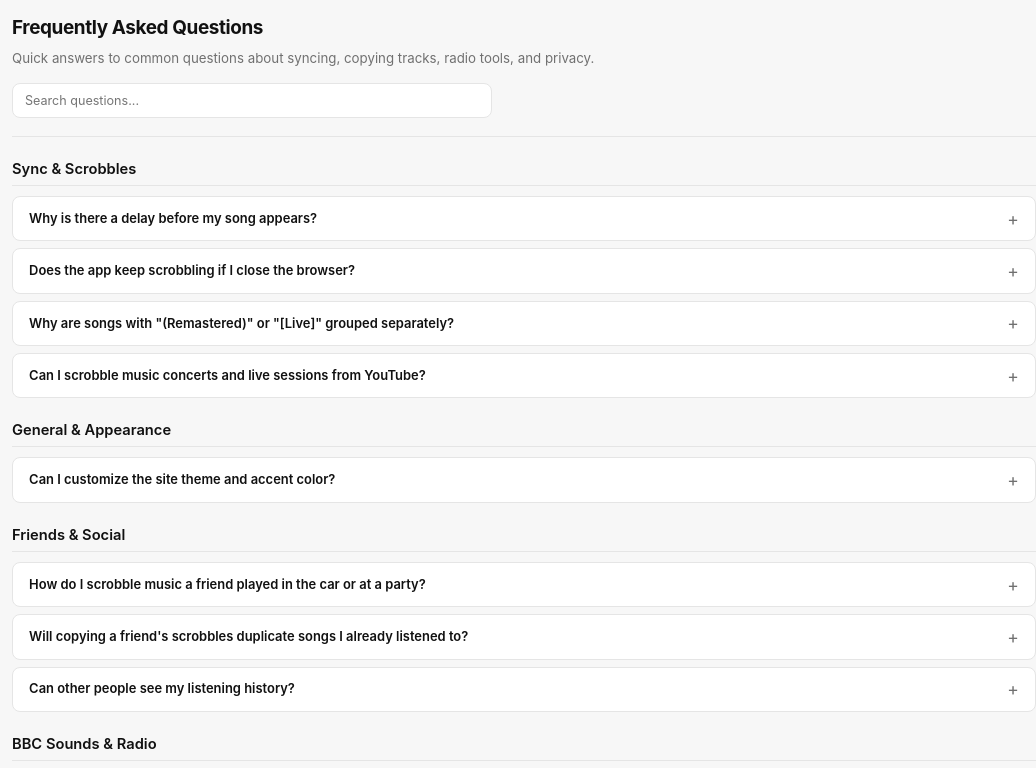
Test: FaqSection › shows empty search state when no questions match
Type "xyznonexistent123" into the search field with placeholder "Search questions...". click: (252, 101)
box: [12,83,492,118]
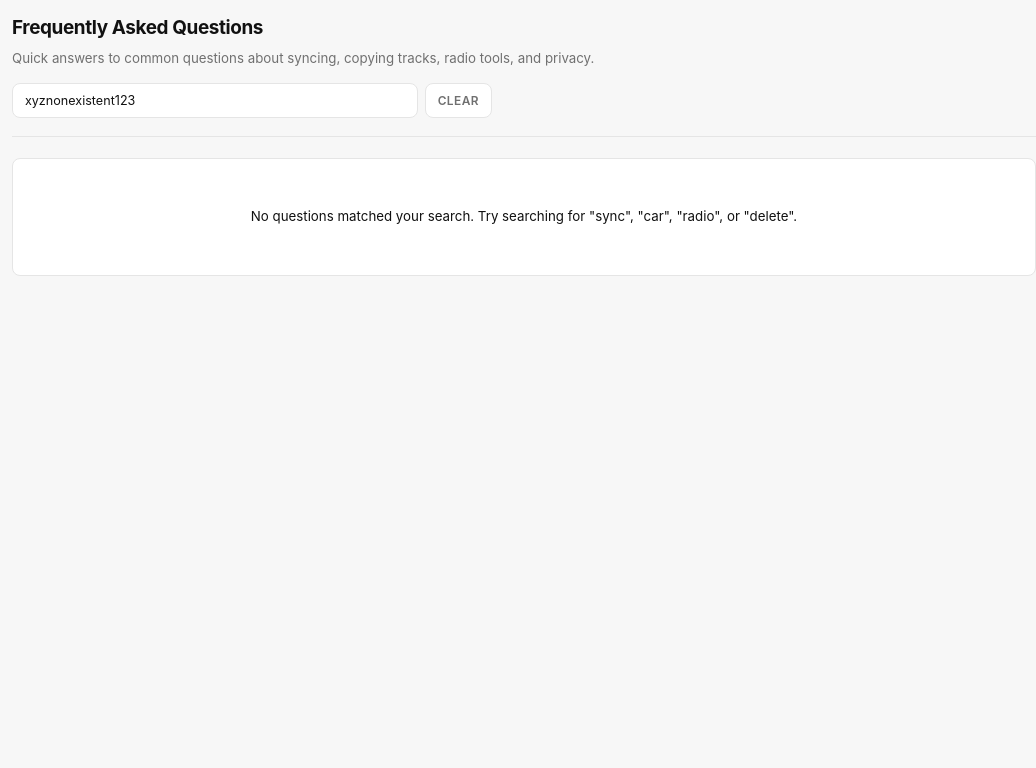
Now the text "No questions matched your search" is shown, box [251,208,797,224]
